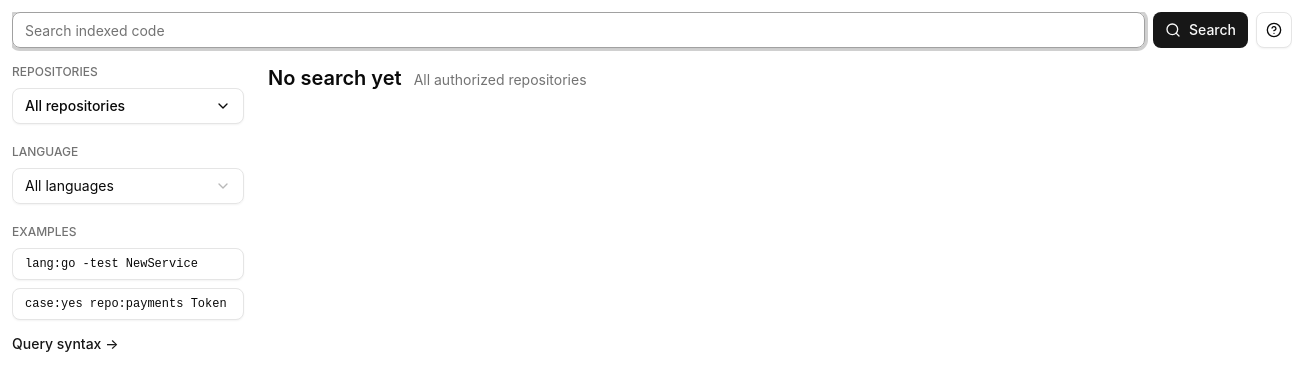
file viewer › refuses content from a different indexed revision
Type "Run" into the search field named "Search code" at (578, 30), box [12,12,1145,48]
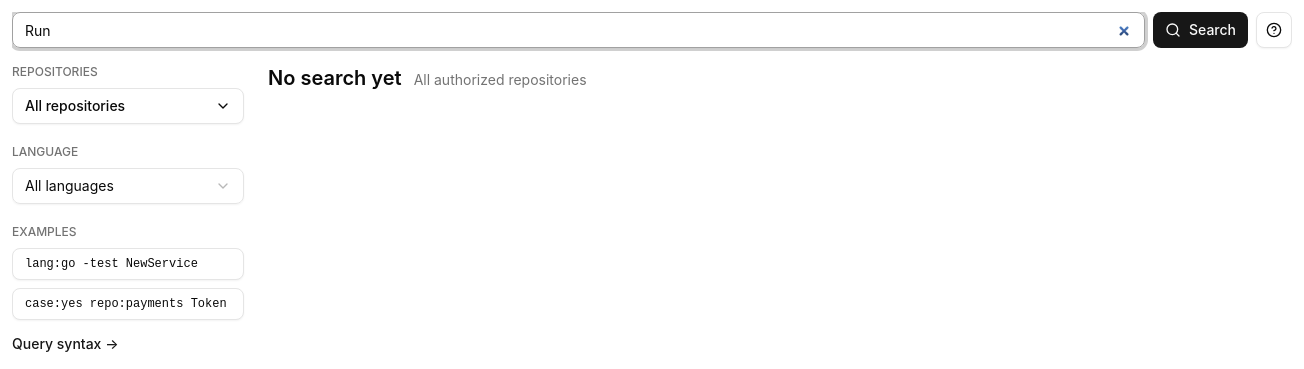
Click the button "Search" at (1200, 30), box [1153,12,1248,48]
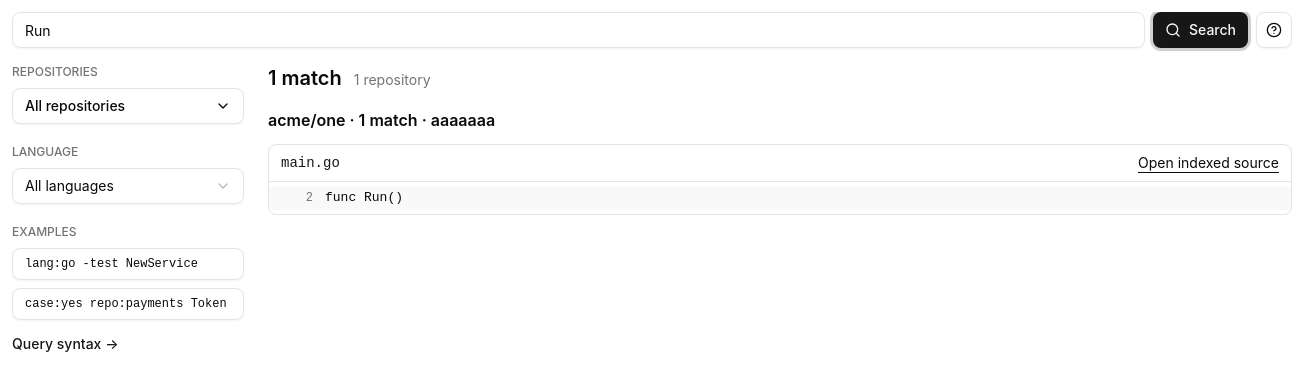
Click the button "main.go" at (310, 163), box [281,153,340,173]
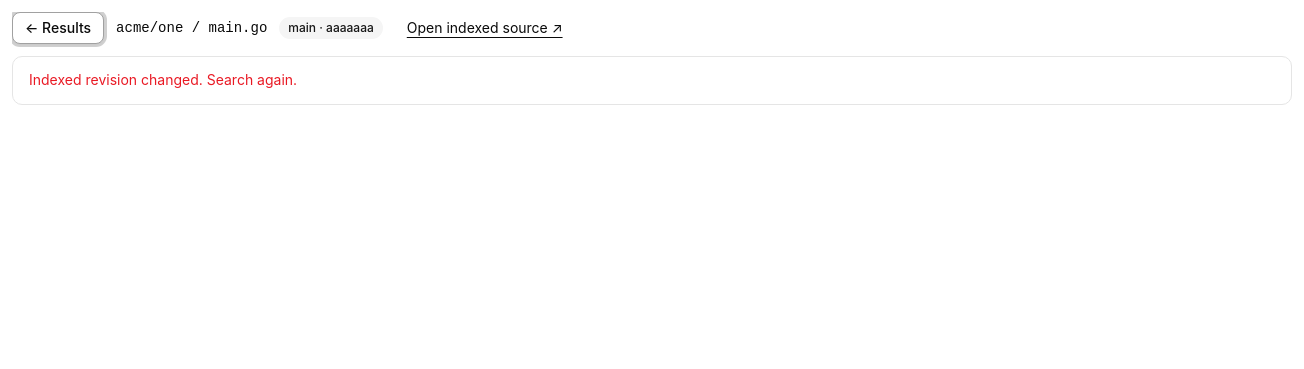
Expected: the text "Indexed revision changed. Search again." is shown, [29,69,297,92]
